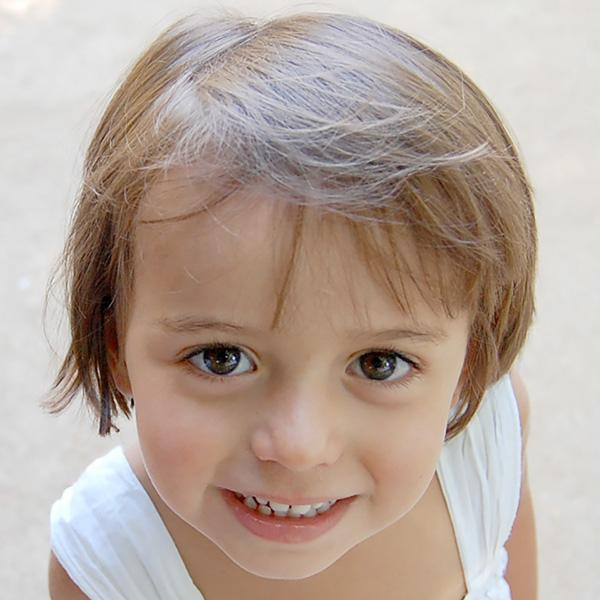Eyes: (170, 331, 266, 395), (335, 338, 426, 397)
